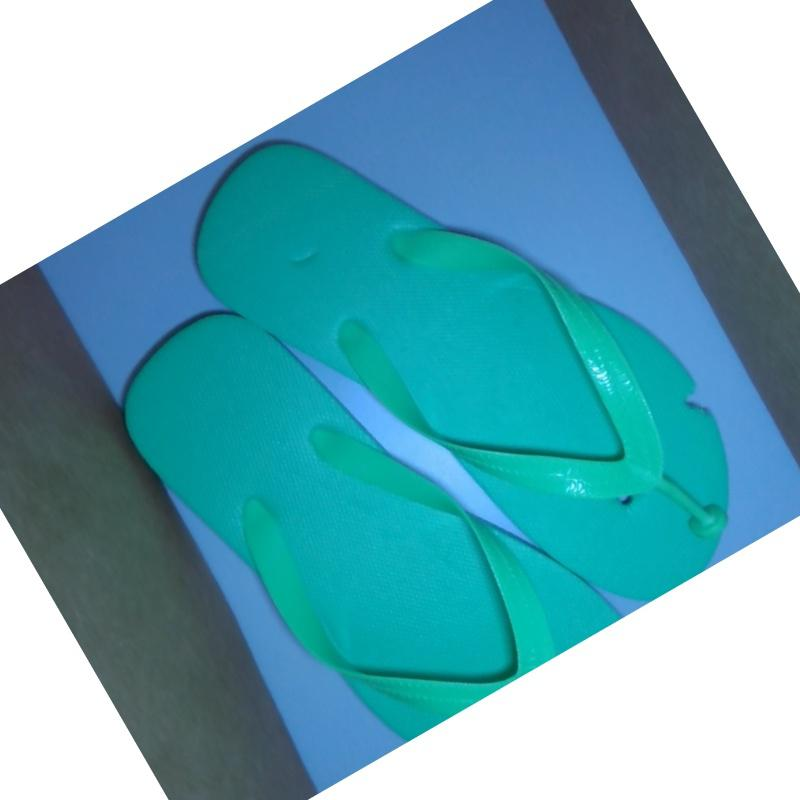chipped: (669, 372, 732, 433)
detached: (681, 484, 735, 552)
